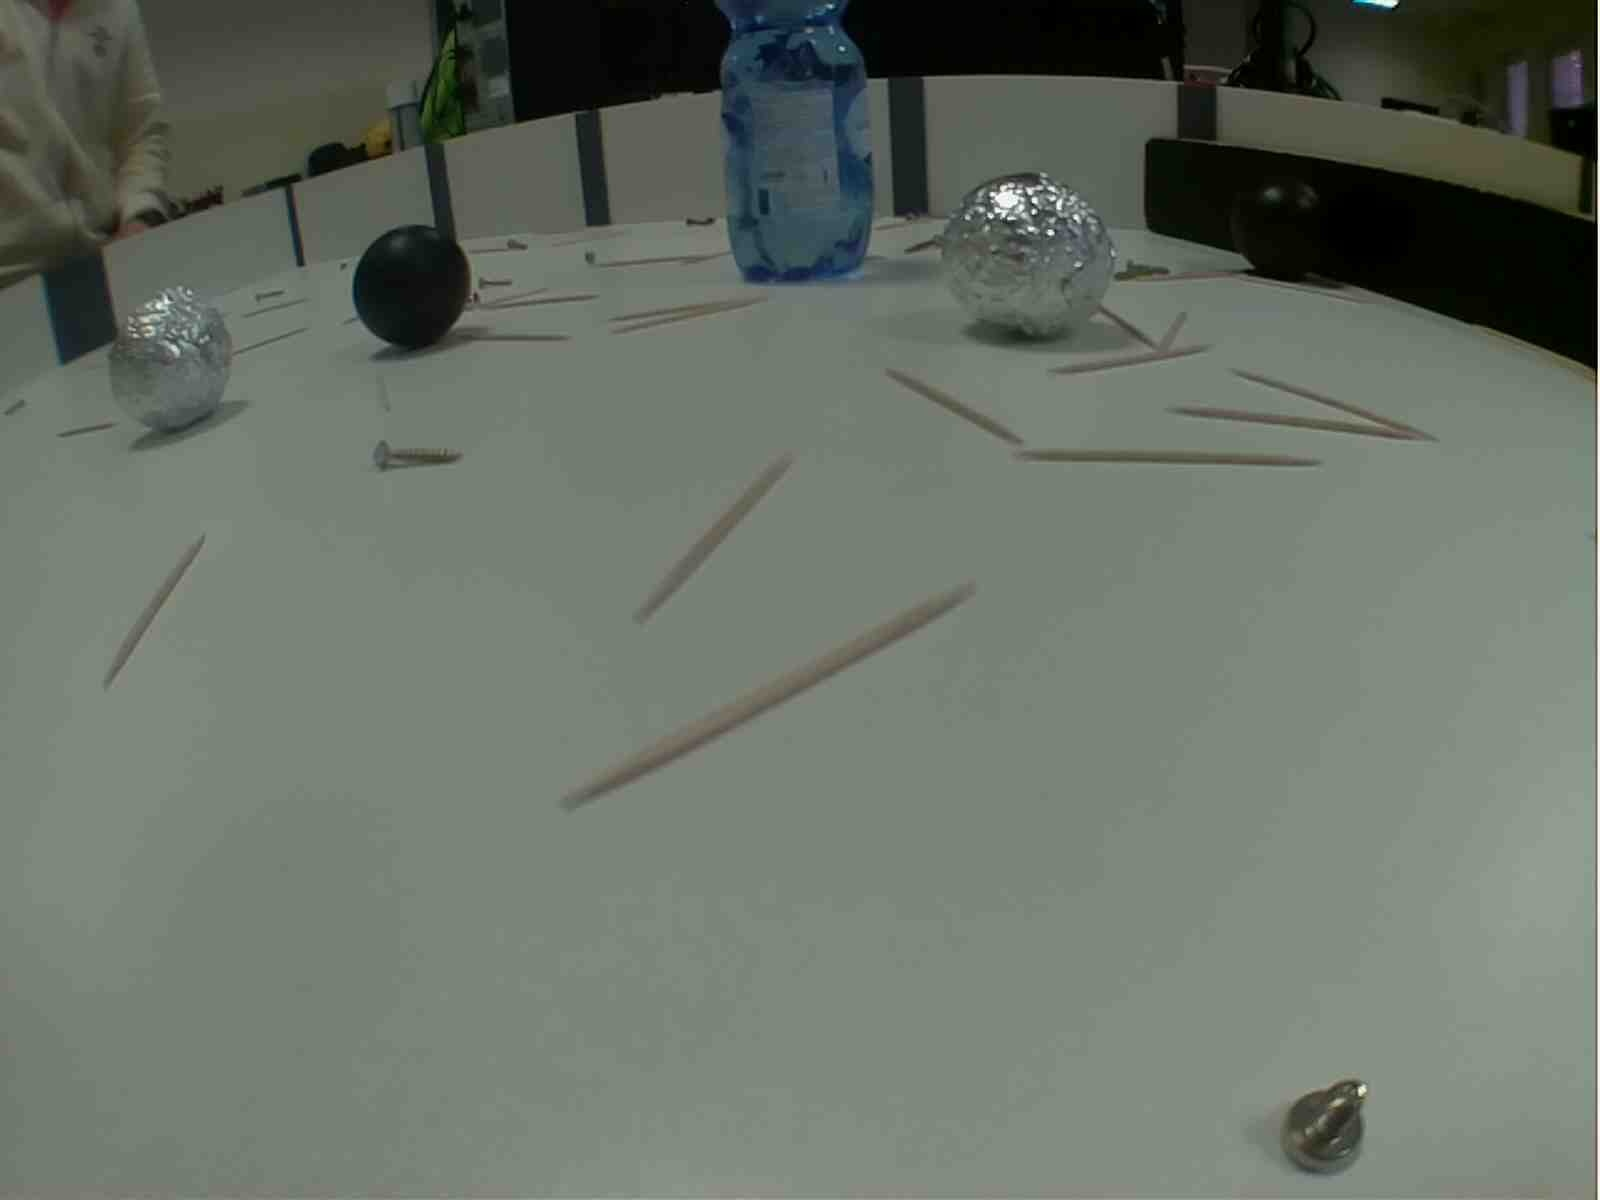bianca: (937, 171, 1116, 348), (110, 280, 242, 441)
nera: (351, 224, 472, 348), (1238, 175, 1339, 286)
